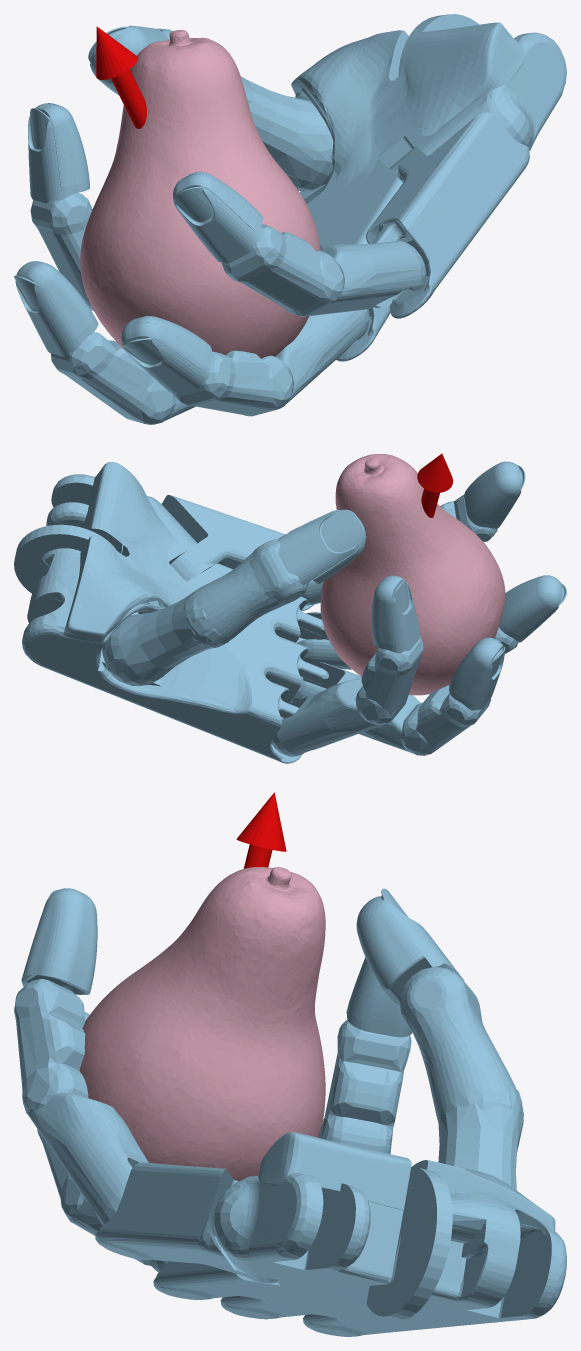
3 views of the same model, one above another, from view 1: azimuth 30°, elevation 25°; view 2: azimuth 150°, elevation 25°; view 3: azimuth 270°, elevation 25° (orthographic). The views are drawn at different scales.
Parts seen in each view (by area): view 1: world, pear.stl; view 2: world, pear.stl; view 3: world, pear.stl.
Part boxes in pixels (x1,y1,x2,y2): world: (14,14,566,424); pear.stl: (80,30,320,358); world: (14,453,566,763); pear.stl: (320,454,505,695); world: (14,792,566,1336); pear.stl: (79,867,325,1181).
Bounding box in the file's own units: 0.1832 × 0.128 × 0.1405.
